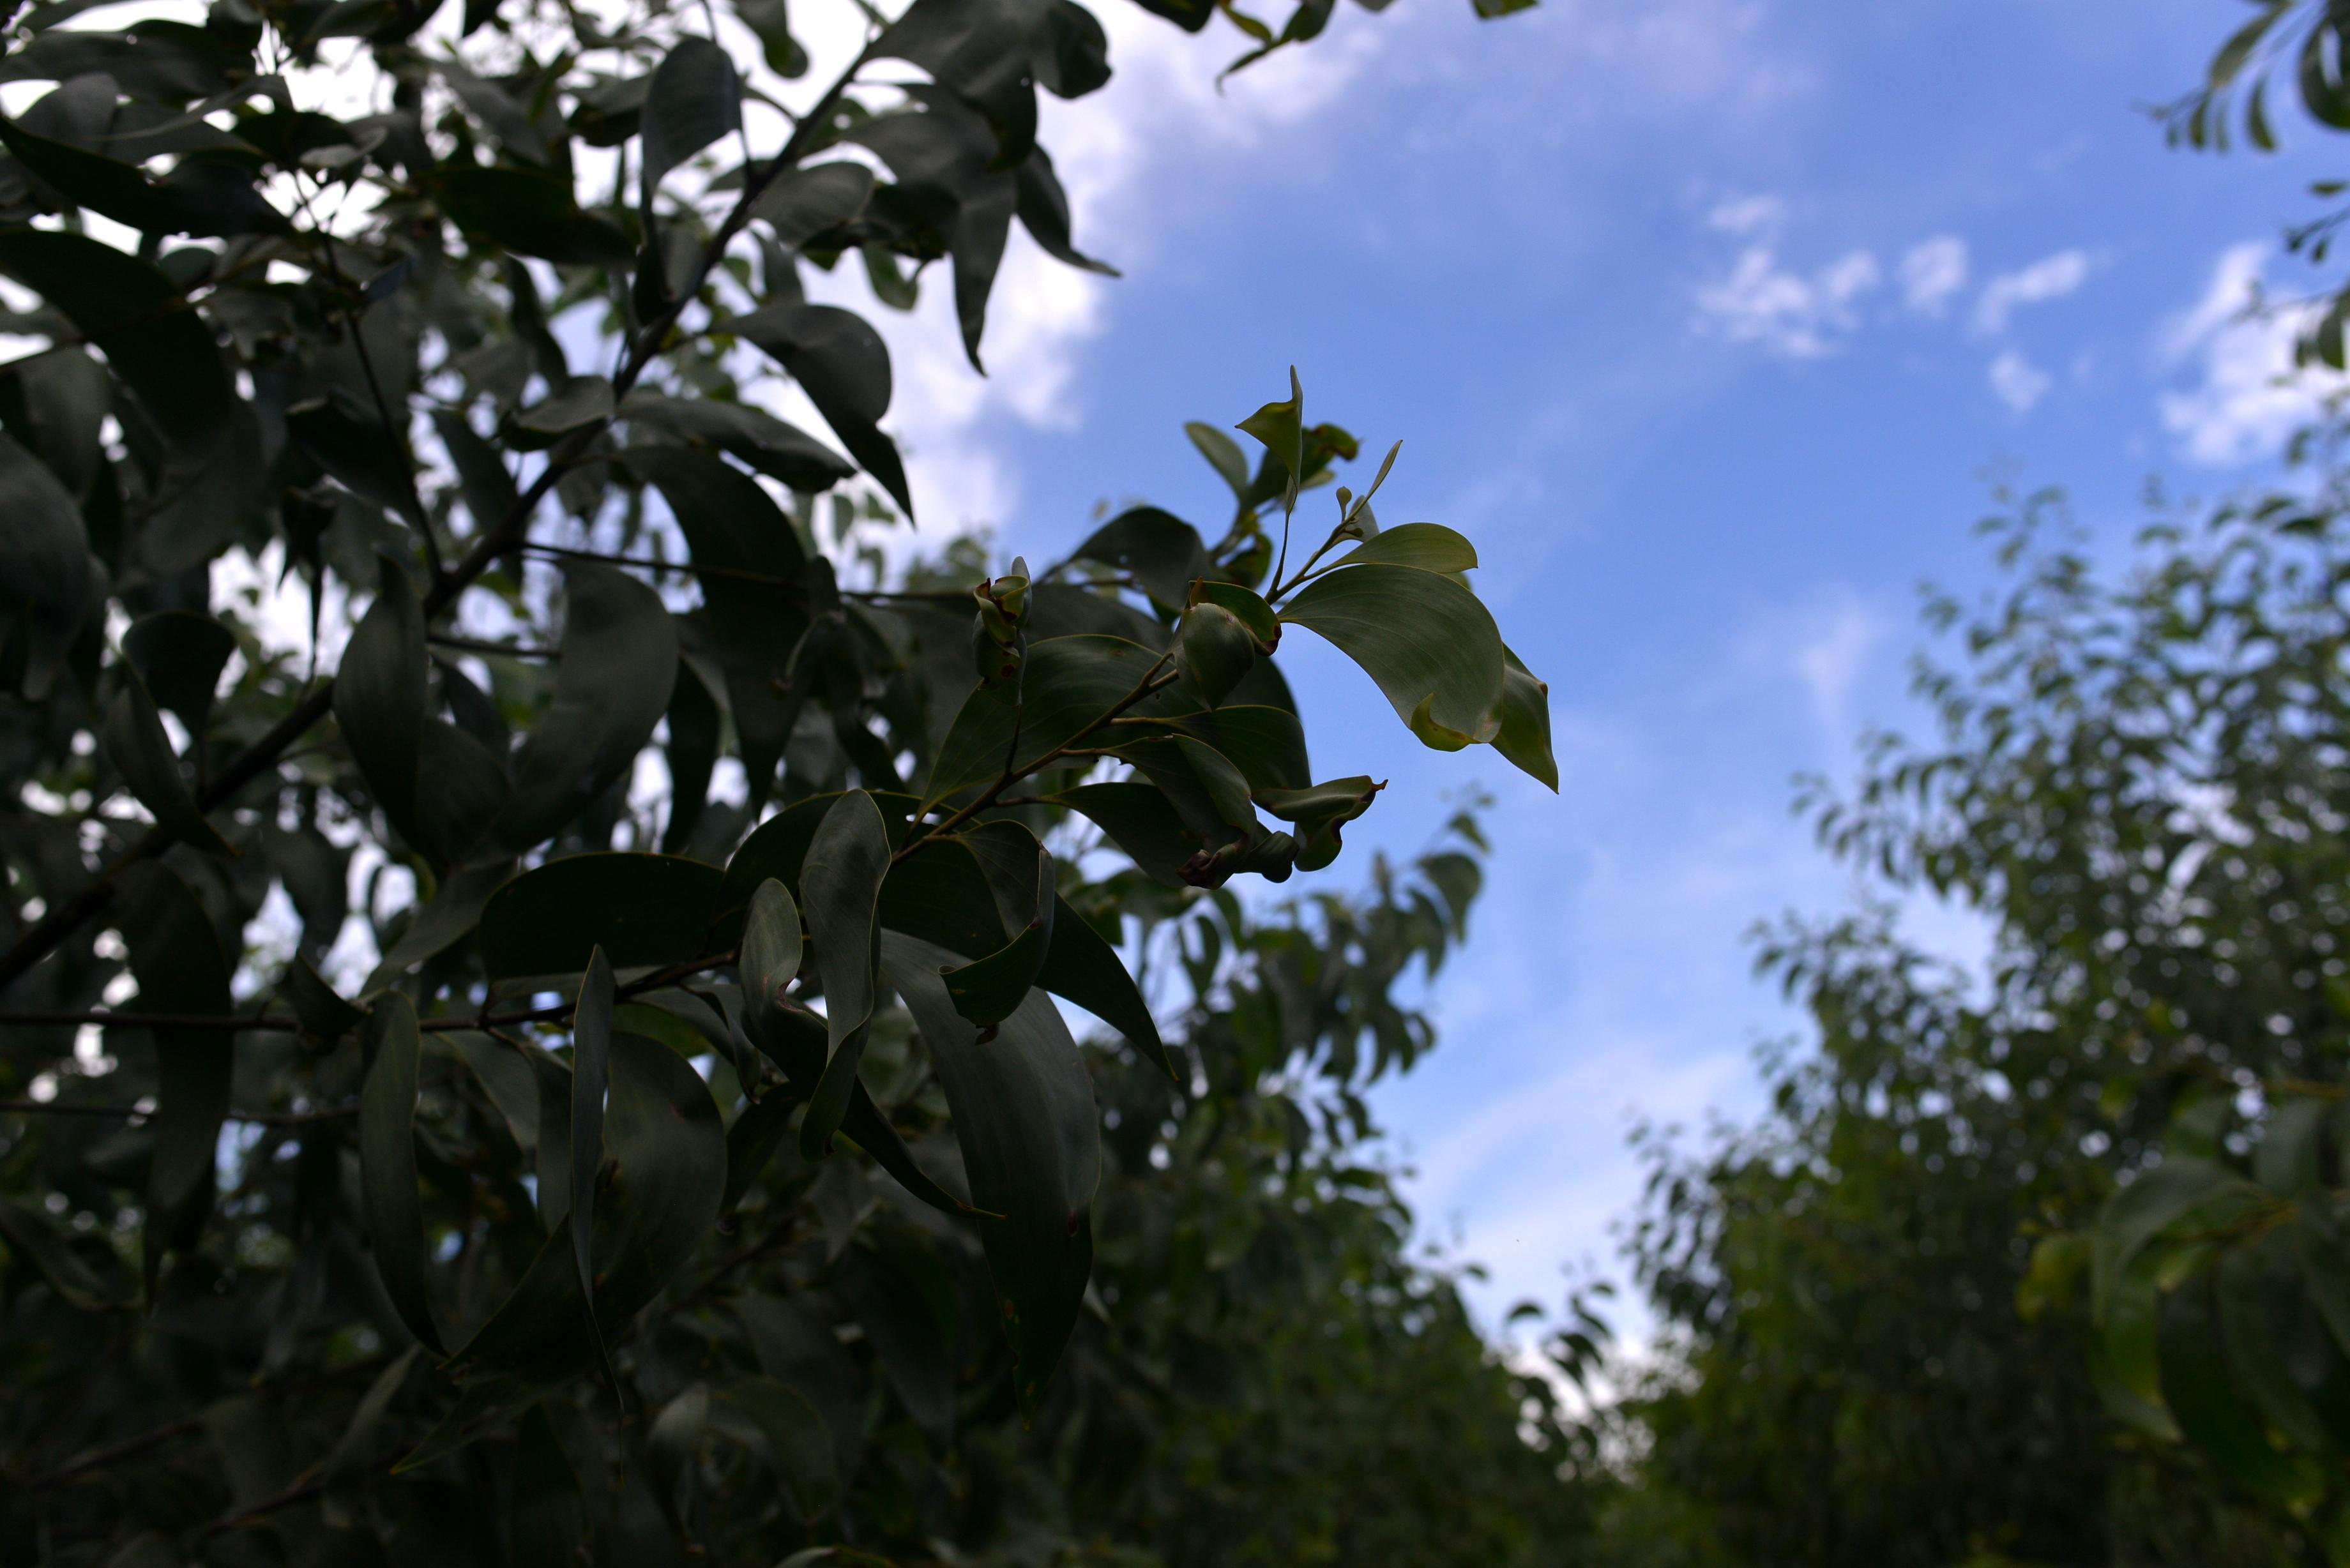Pasalora: (1283, 565, 1505, 752), (796, 787, 892, 1162), (1106, 731, 1260, 891), (945, 831, 1060, 1034), (1057, 777, 1291, 877), (1228, 341, 1325, 518), (945, 563, 1059, 712), (640, 1375, 738, 1545), (1262, 772, 1388, 871), (1493, 644, 1564, 800), (1242, 416, 1363, 506), (807, 233, 927, 313), (1183, 605, 1251, 705), (1223, 528, 1277, 597)
